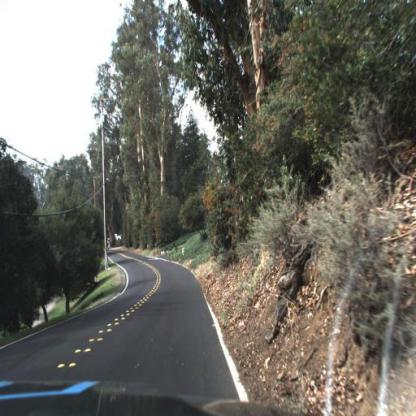car: (112, 228, 126, 246)
